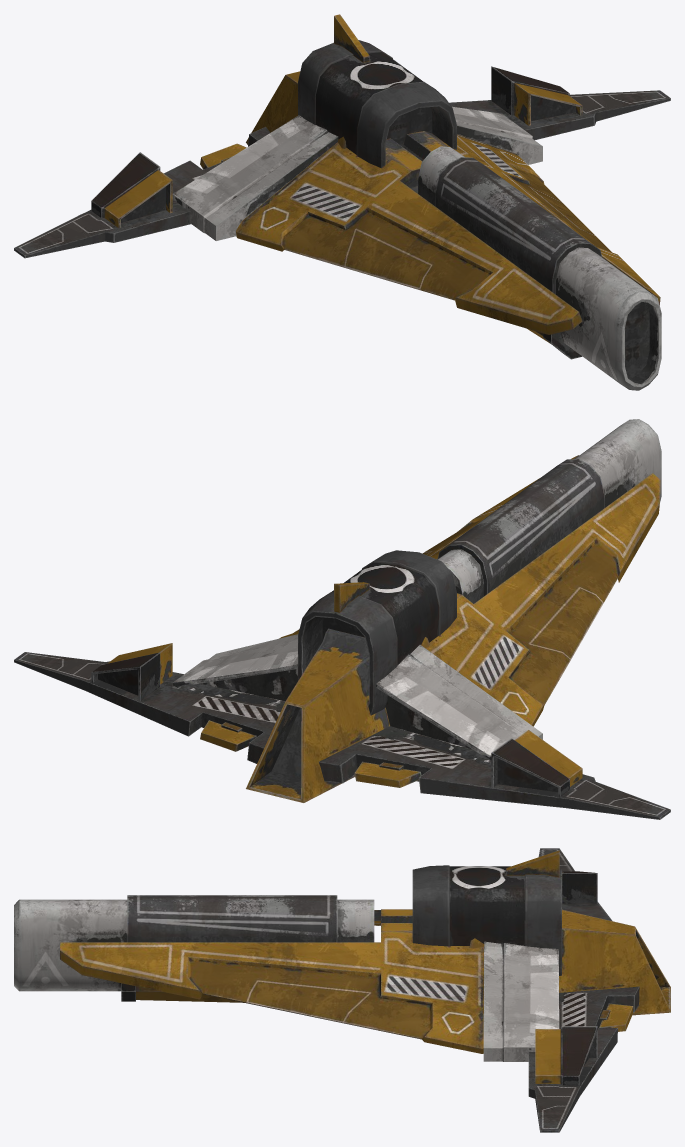
The model's file is Omen.gltf.
3 views of the same model, one above another, from view 1: azimuth 30°, elevation 25°; view 2: azimuth 150°, elevation 25°; view 3: azimuth 270°, elevation 25° (orthographic). The views are drawn at different scales.
Visible parts, largest first — view 1: Omen; view 2: Omen; view 3: Omen.
Boxes of the visible parts, left/top/right/bottom form: Omen: left=14, top=14, right=670, bottom=390; Omen: left=14, top=419, right=670, bottom=819; Omen: left=14, top=848, right=670, bottom=1132.
Size of the model in its own units: 12.78 by 3.14 by 12.58.
Materials: 1 (1 with a texture image).
